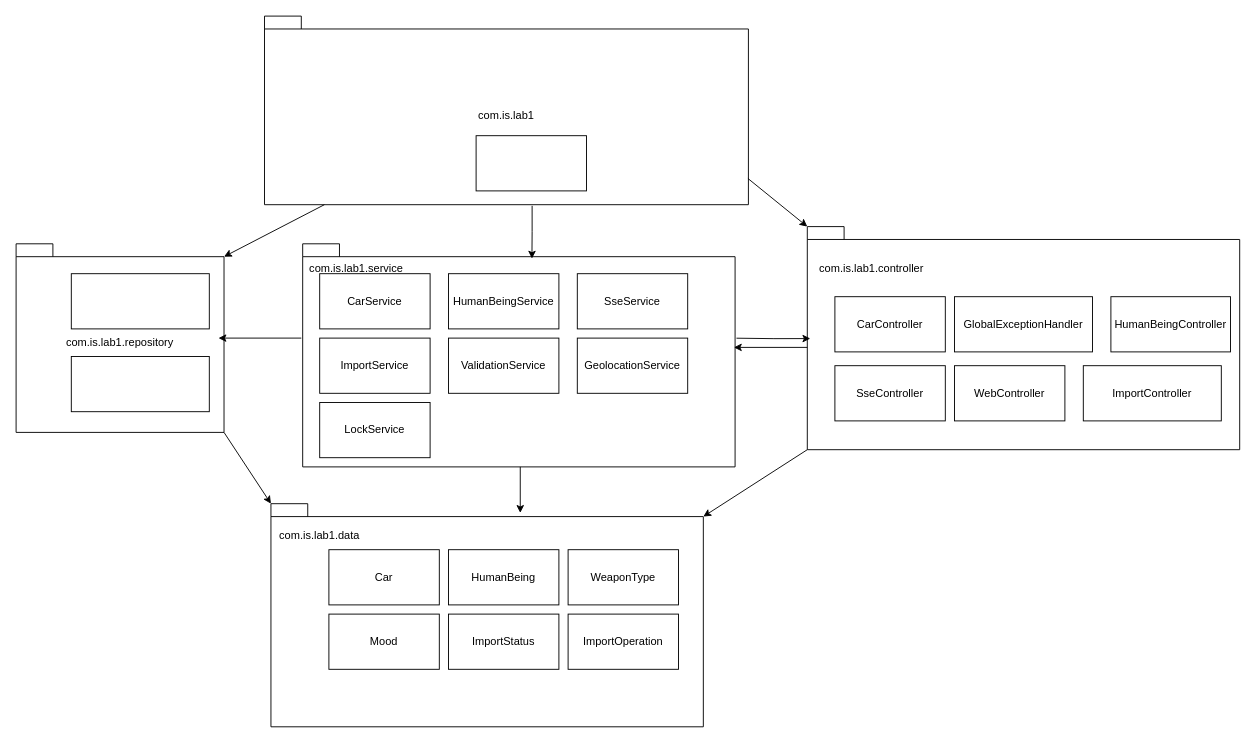
Image size: 1256x743. Some labels were removed from this diagram. The centre of each missing label's shape, as x and y in pixels:
CarRepository: the point at 139,384
HumanBeingRepository: the point at 139,301
Lab2Application: the point at 530,163
